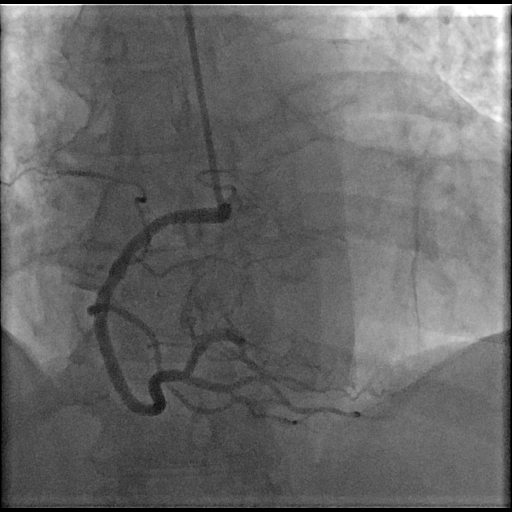RCA: (86, 203, 360, 425)
catherter: (183, 3, 226, 215)
